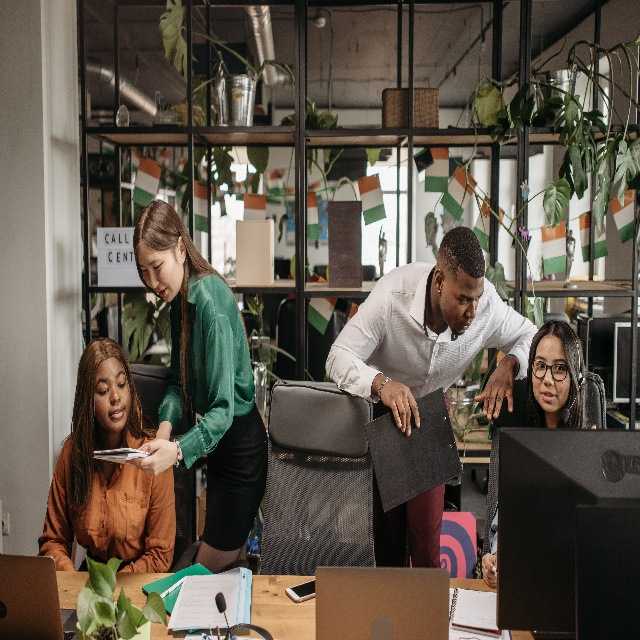Gafas: (530, 357, 570, 382)
Sin_guantes: (473, 361, 515, 421), (379, 378, 421, 436), (126, 440, 179, 476)
